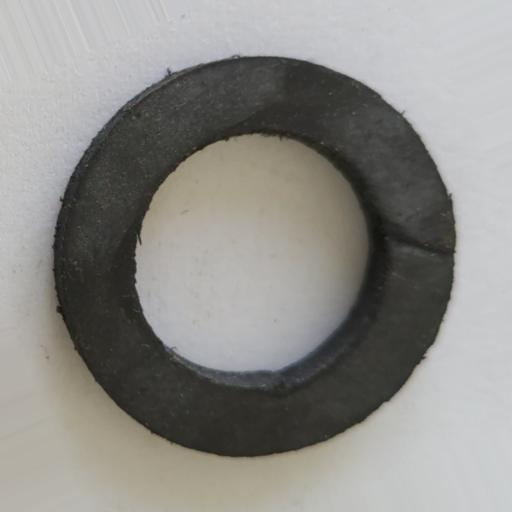defect: (375, 222, 455, 262)
